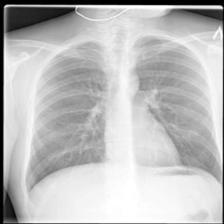tuberculosis: (25, 28, 222, 196)
